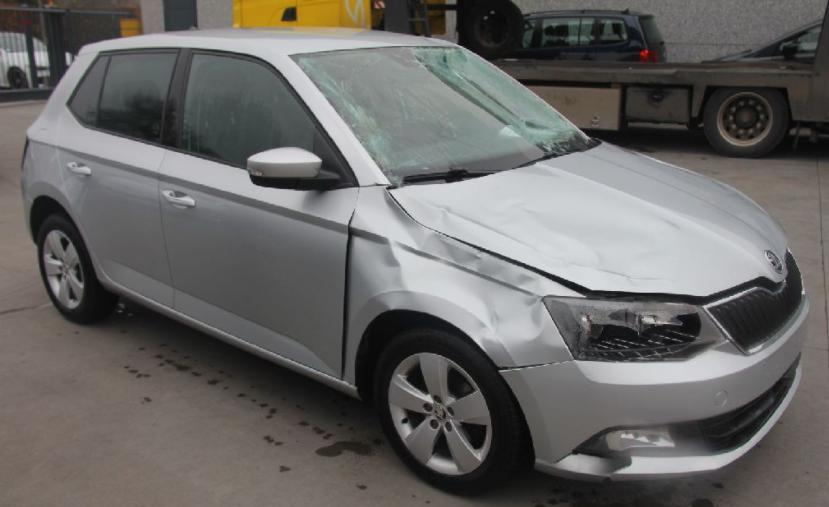Back-door: (56, 49, 184, 307)
Back-wheel: (36, 215, 119, 323)
Back-window: (66, 49, 180, 146)
Fender: (342, 185, 586, 384)
Front-bumper: (499, 296, 810, 482)
Front-door: (157, 49, 360, 379)
Front-wheel: (373, 326, 531, 496)
Front-window: (179, 48, 359, 189)
Grille: (704, 250, 803, 355)
Headlight: (545, 298, 722, 361)
Hood: (387, 139, 789, 297)
Mirror: (247, 147, 342, 190)
Quarter-panel: (21, 98, 105, 277)
Rocker-panel: (95, 273, 365, 401)
Roof: (117, 26, 455, 55)
Windshield: (288, 46, 599, 186)
